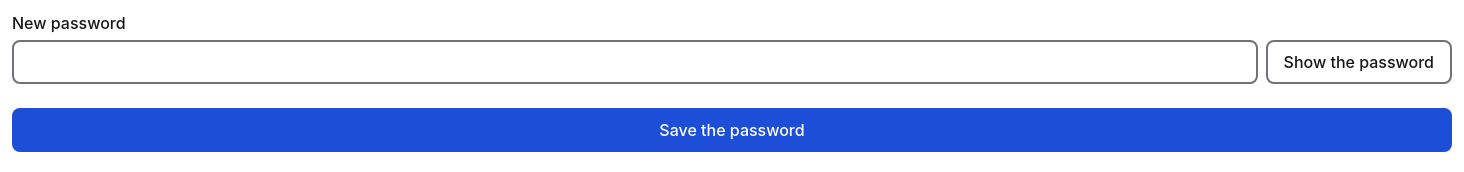
Test: the form of "Choose your password" › [IHM-06] offers the new password to the password manager, which can keep it, and shows it in clear on demand
This screenshot has width=1464, height=172.
Type "chosen-meadow-violet-quartz" into the password field labelled "New password".
click(635, 62); type("chosen-meadow-violet-quartz")  # box top-left (12, 40), bottom-right (1258, 84)
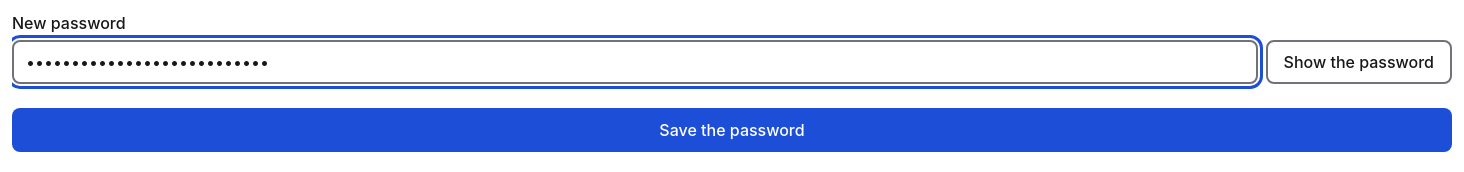
Click the button "Show the password".
click(1359, 62)  # box top-left (1266, 40), bottom-right (1452, 84)
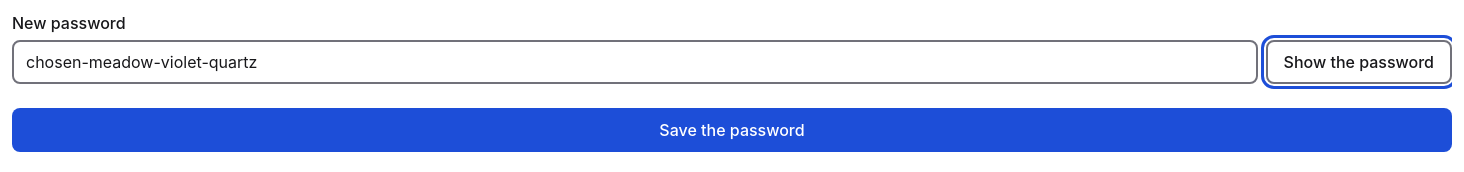
Expected: the field labelled "New password" shows its text, top-left (12, 40), bottom-right (1258, 84)
